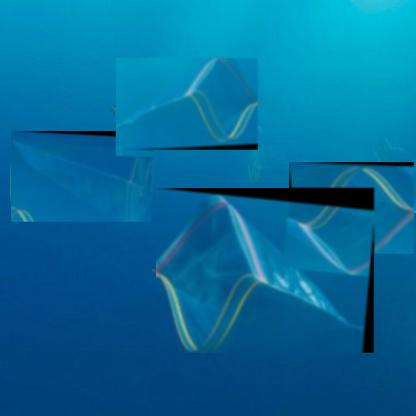plastic-bag: (156, 188, 375, 354), (116, 58, 259, 151), (11, 131, 154, 223), (289, 162, 415, 255)
